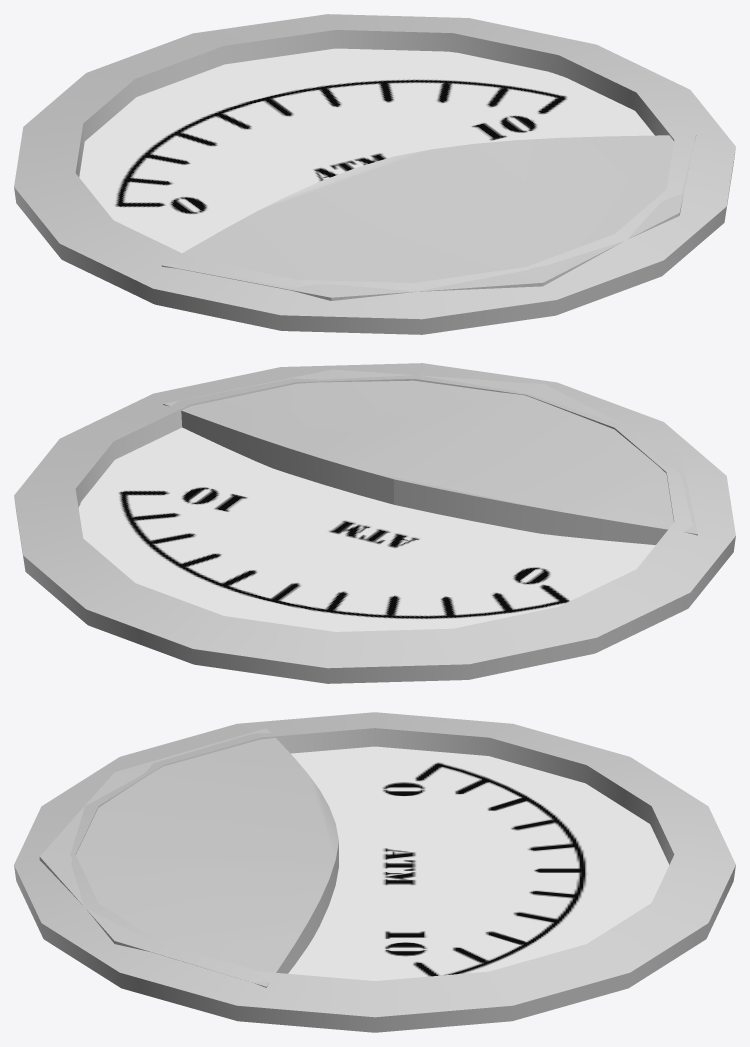
The model's file is RoundIndicator.FBX.
3 renders of one model, top to bottom at view 1: azimuth 30°, elevation 25°; view 2: azimuth 150°, elevation 25°; view 3: azimuth 270°, elevation 25°, orthographic.
Parts seen in each view (by area): view 1: Line001, Cylinder001, Line004; view 2: Line001, Cylinder001, Line004; view 3: Line001, Cylinder001, Line004.
Part boxes in pixels (box(x1,y1,x2,y2)): Line001: box(14, 14, 735, 334); Cylinder001: box(79, 48, 654, 252); Line004: box(161, 135, 696, 300); Line001: box(14, 363, 735, 683); Cylinder001: box(78, 427, 655, 631); Line004: box(163, 369, 697, 544); Line001: box(14, 712, 735, 1032); Cylinder001: box(288, 746, 669, 980); Line004: box(39, 728, 338, 987).
Size of the model in its own units: 26.12 by 1.66 by 26.12.
Materials: 1 (1 with a texture image).
